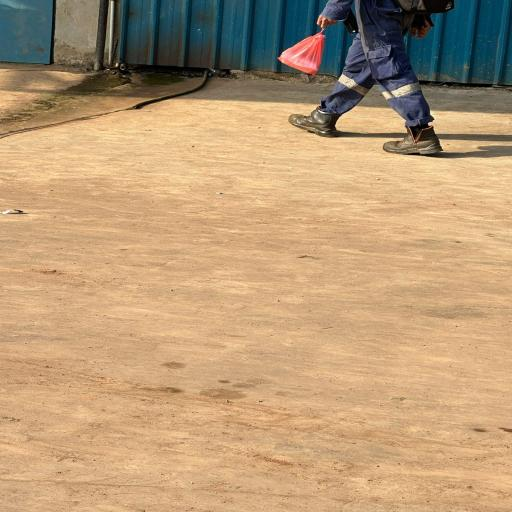safety_shoe: (370, 123, 462, 163), (276, 99, 342, 143)
